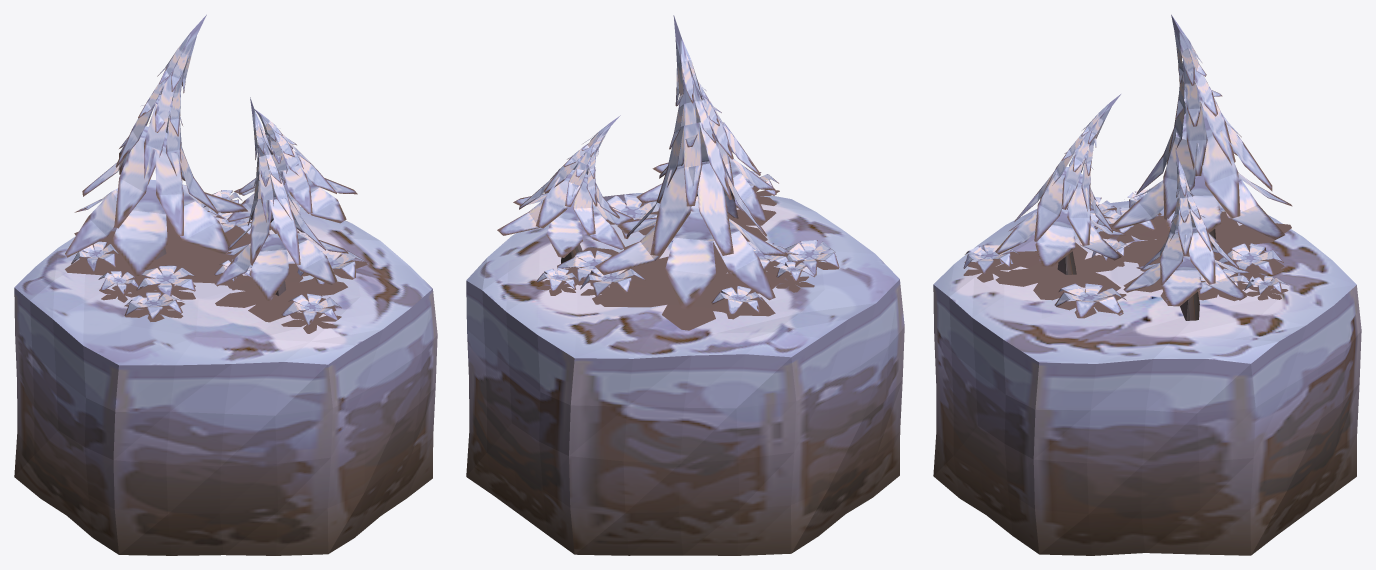
Rendered from tile_snow_forest.fbx.
3 views of the same model, side by side, from view 1: azimuth 30°, elevation 25°; view 2: azimuth 150°, elevation 25°; view 3: azimuth 270°, elevation 25° (orthographic). The views are drawn at different scales.
Visible parts, largest first — view 1: Cylinder002, Object013, Object018, Object015, Object014, Object008, Object001, Object010, Object005, Object011, Object009; view 2: Cylinder002, Object013, Object018, Object014, Object015, Object010, Object011, Object007, Object003, Object005; view 3: Cylinder002, Object013, Object018, Object015, Object014, Object011, Object007, Object001.
Part boxes in pixels (x1,y1,x2,y2): Cylinder002: [14, 203, 437, 555]; Object013: [65, 14, 247, 275]; Object018: [65, 199, 367, 333]; Object015: [215, 97, 348, 300]; Object014: [227, 109, 357, 233]; Object008: [136, 265, 195, 295]; Object001: [281, 293, 341, 326]; Object010: [124, 292, 183, 318]; Object005: [71, 241, 118, 271]; Object011: [297, 250, 367, 284]; Object009: [98, 271, 138, 295]; Cylinder002: [466, 193, 904, 555]; Object013: [595, 15, 786, 309]; Object018: [536, 186, 838, 330]; Object014: [497, 115, 633, 263]; Object015: [636, 81, 775, 221]; Object010: [782, 240, 839, 275]; Object011: [601, 194, 660, 238]; Object007: [580, 268, 645, 296]; Object003: [557, 250, 630, 282]; Object005: [711, 285, 763, 314]; Cylinder002: [933, 201, 1361, 555]; Object013: [1111, 14, 1292, 247]; Object018: [963, 205, 1291, 318]; Object015: [995, 94, 1126, 274]; Object014: [1123, 148, 1252, 320]; Object011: [1055, 283, 1126, 317]; Object007: [1218, 243, 1283, 275]; Object001: [963, 245, 1019, 273].
Size of the model in its own units: 4.36 by 4.72 by 5.64.
Materials: 1 (1 with a texture image).
